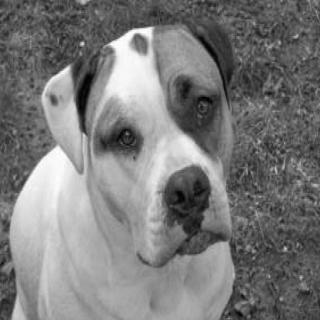dog: (41, 21, 262, 269)
nose: (161, 165, 216, 237)
